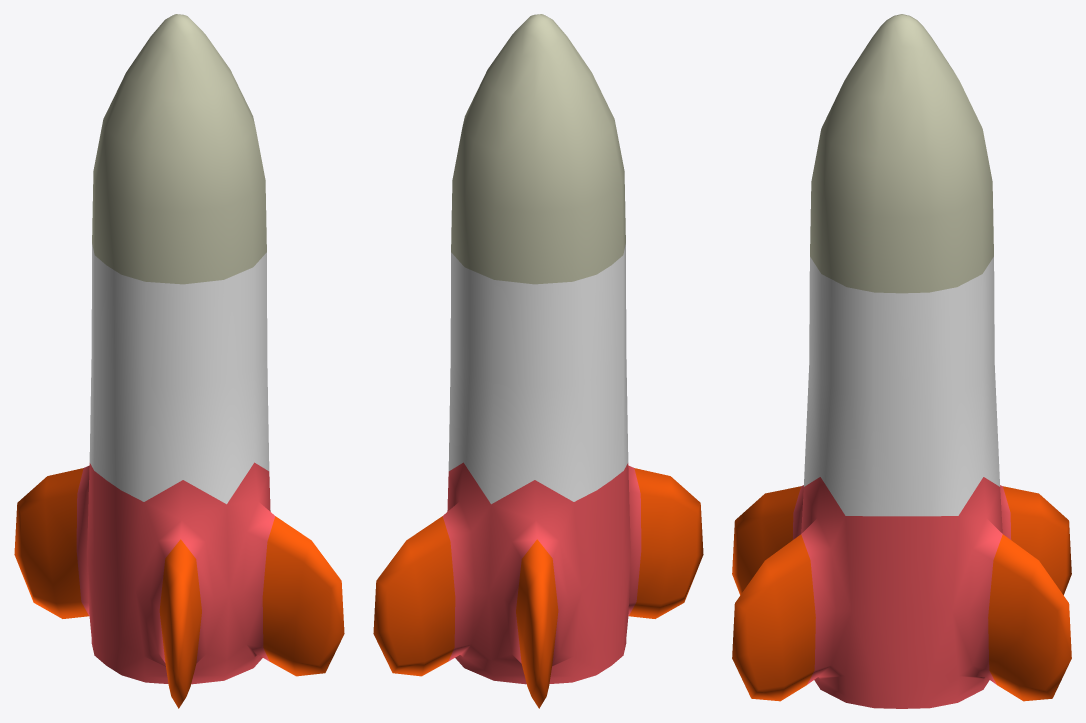
The picture shows the model from 3 angles, left to right: view 1: azimuth 30°, elevation 25°; view 2: azimuth 150°, elevation 25°; view 3: azimuth 270°, elevation 25°; orthographic projection. The views are drawn at different scales.
Parts seen in each view (by area): view 1: 柱体; view 2: 柱体; view 3: 柱体.
Boxes of the visible parts, x1=… form: 柱体: x1=14, y1=14, x2=344, y2=708; 柱体: x1=373, y1=14, x2=703, y2=708; 柱体: x1=732, y1=14, x2=1071, y2=708.
Size of the model in its own units: 1.82 by 6.56 by 3.08.
1 material, 1 textured.
